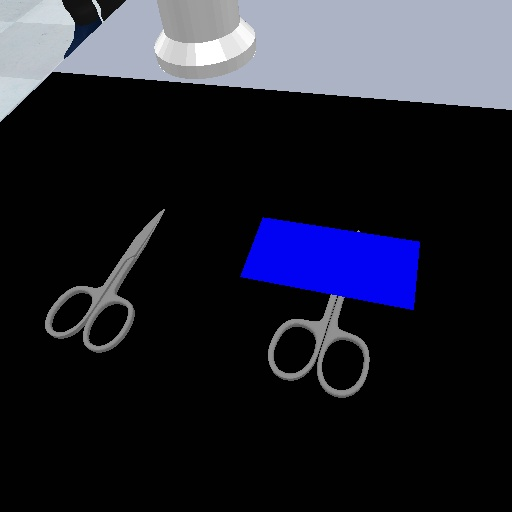tijera: (37, 205, 169, 355), (265, 291, 372, 401)
